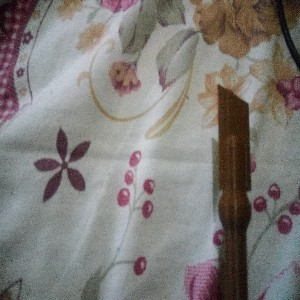cutter: (216, 81, 253, 300)
